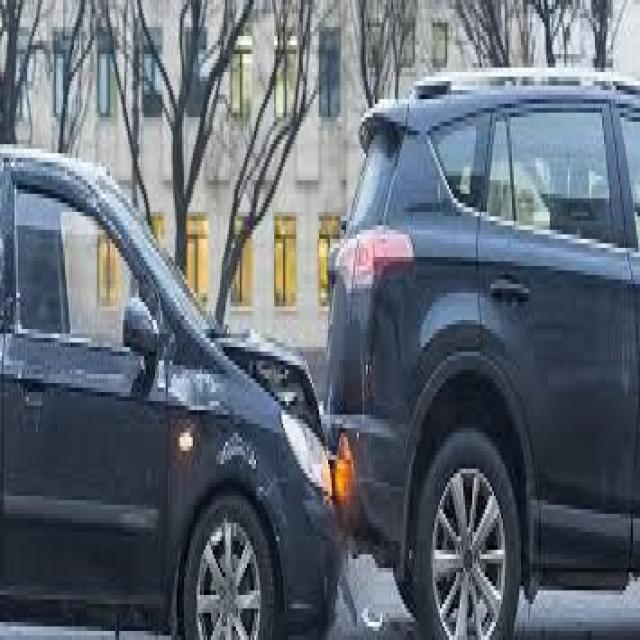accident: (117, 94, 488, 616)
